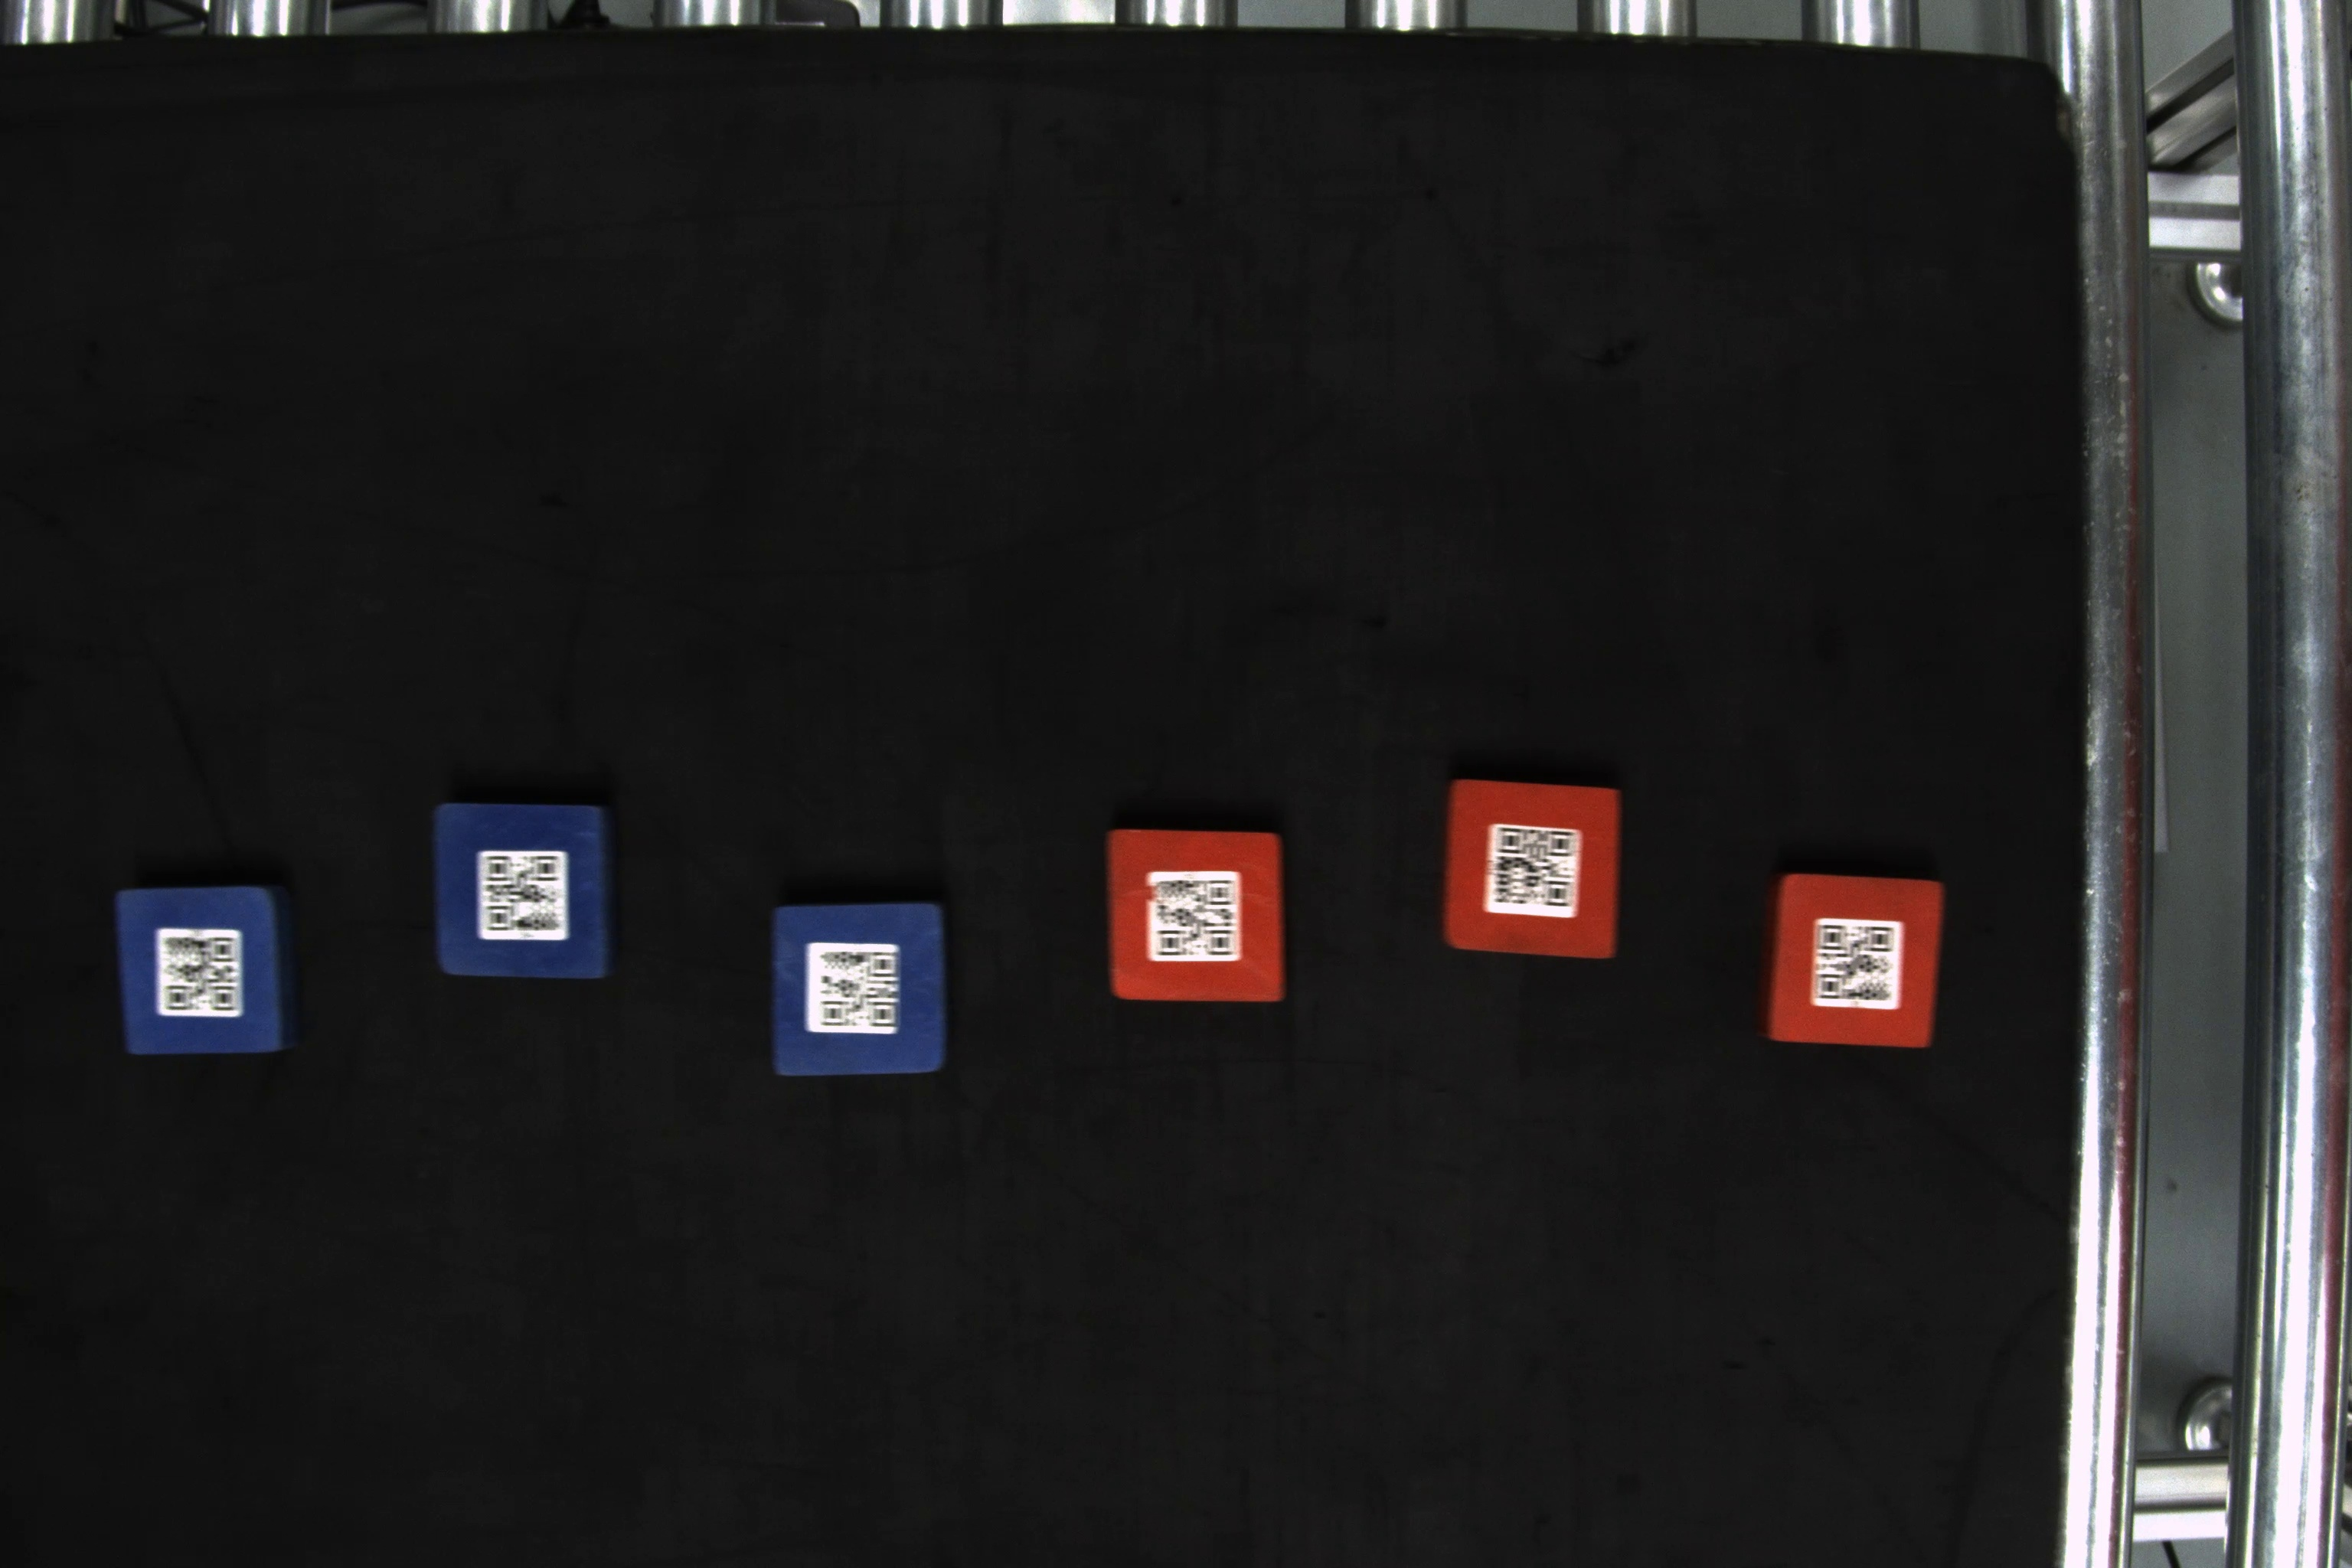wood: (429, 798, 623, 990), (110, 885, 301, 1069), (1759, 870, 1949, 1053), (1099, 822, 1290, 1004), (763, 901, 957, 1078), (1444, 777, 1627, 962)
